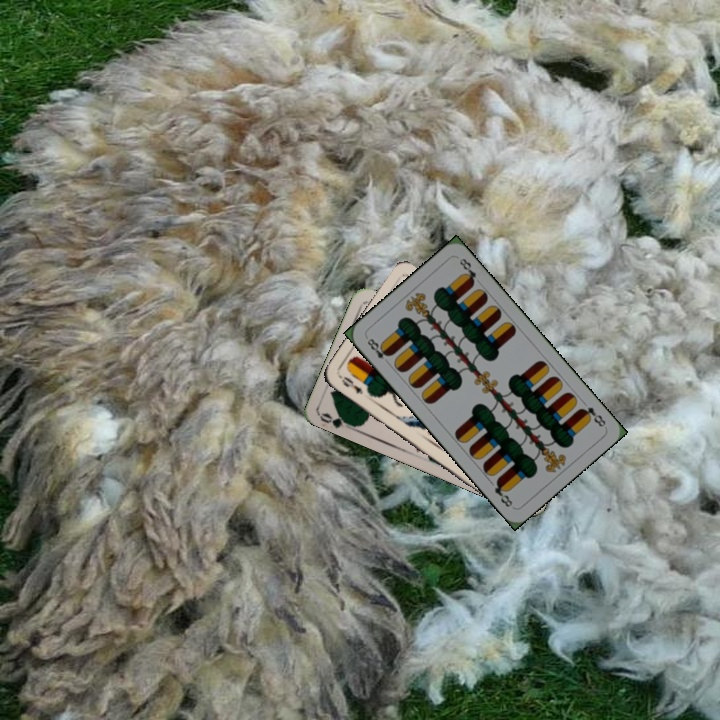E8: (575, 402, 608, 430), (362, 333, 393, 362)
EO: (334, 370, 365, 397)
GO: (316, 408, 357, 431)
